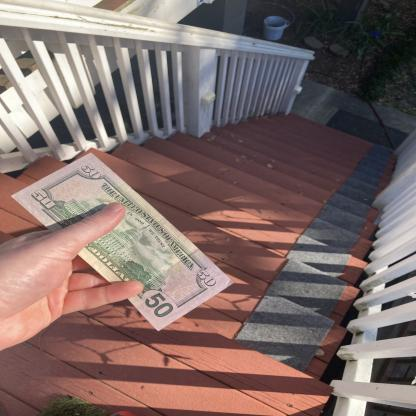fifty-back: (10, 153, 236, 331)
